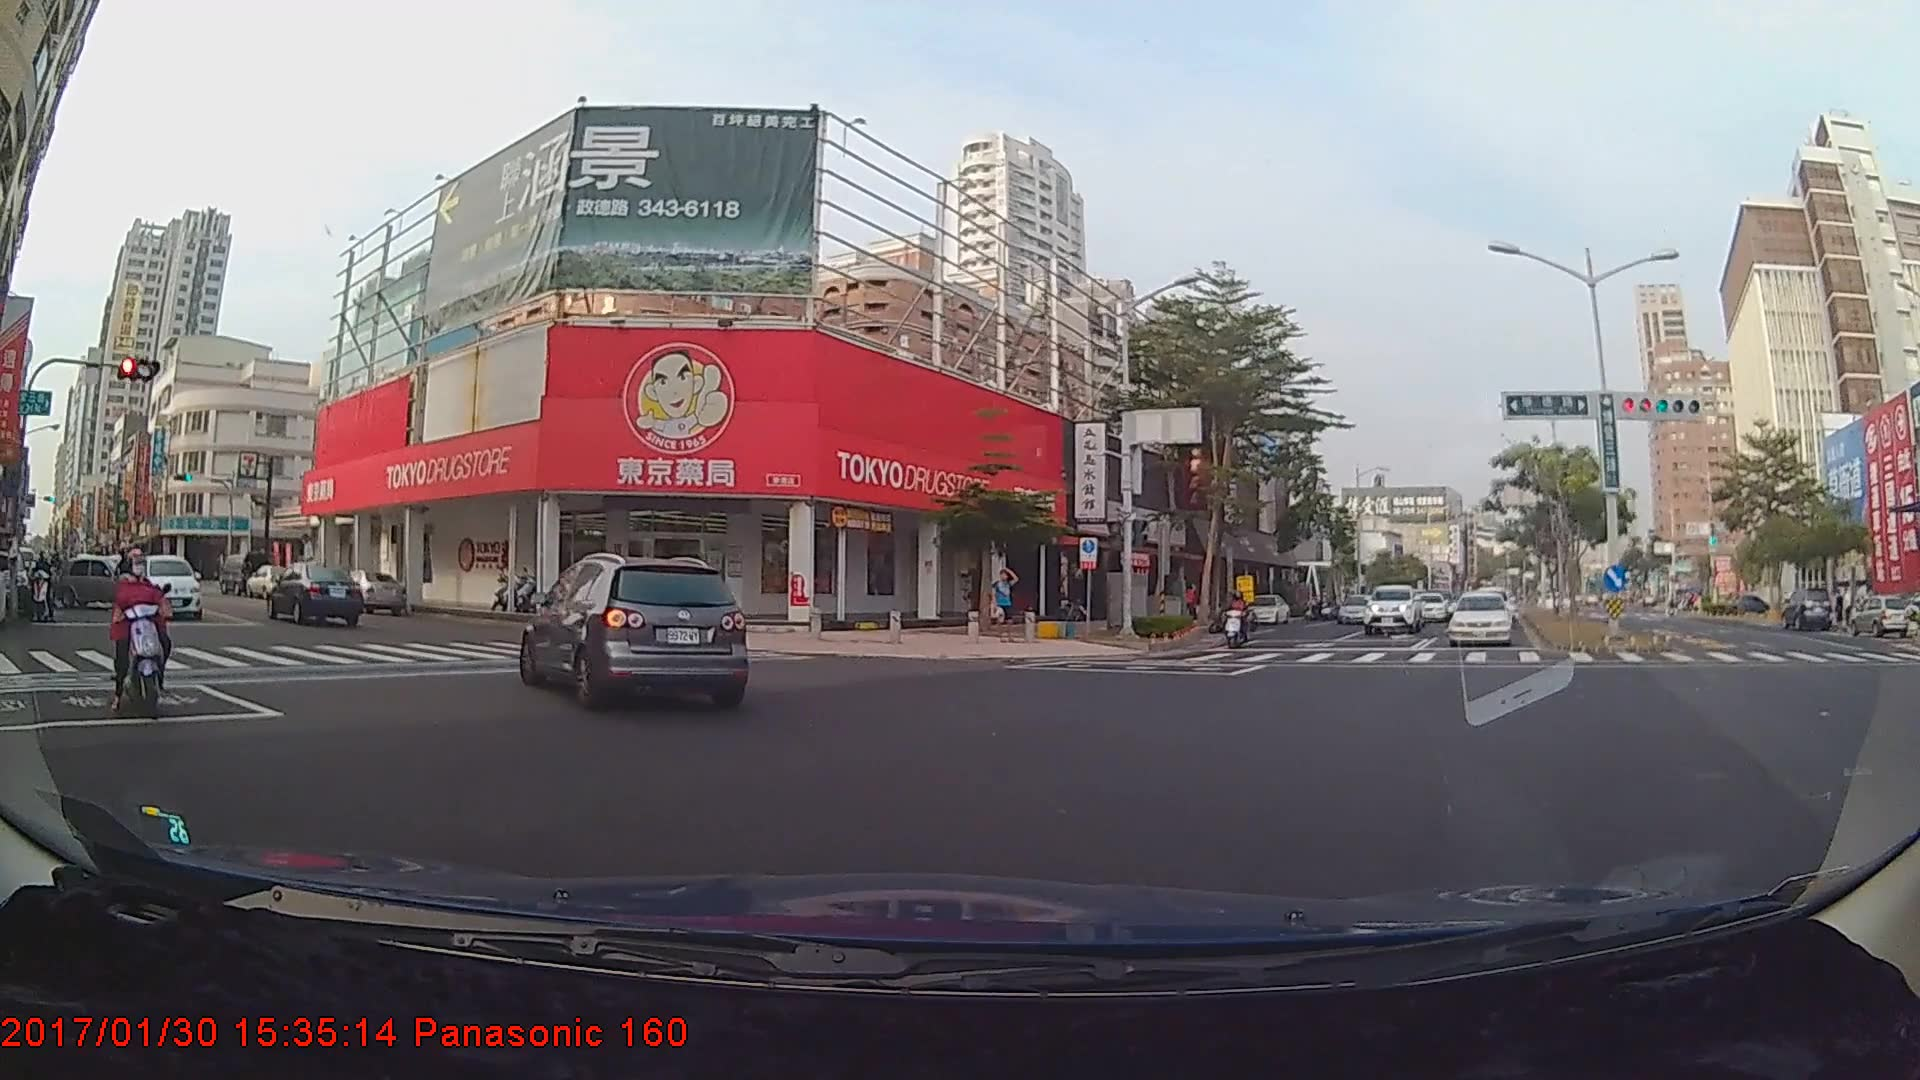pedestrian: (993, 567, 1021, 643)
rider: (97, 547, 177, 746), (1220, 588, 1258, 652), (29, 543, 58, 622)
vehicle: (521, 557, 747, 709), (270, 562, 361, 626), (52, 554, 147, 607), (135, 556, 203, 622), (324, 569, 405, 615), (1447, 592, 1512, 647), (1361, 584, 1421, 635), (1782, 588, 1826, 631), (1238, 594, 1287, 625), (1336, 591, 1371, 624), (1412, 591, 1447, 622)
